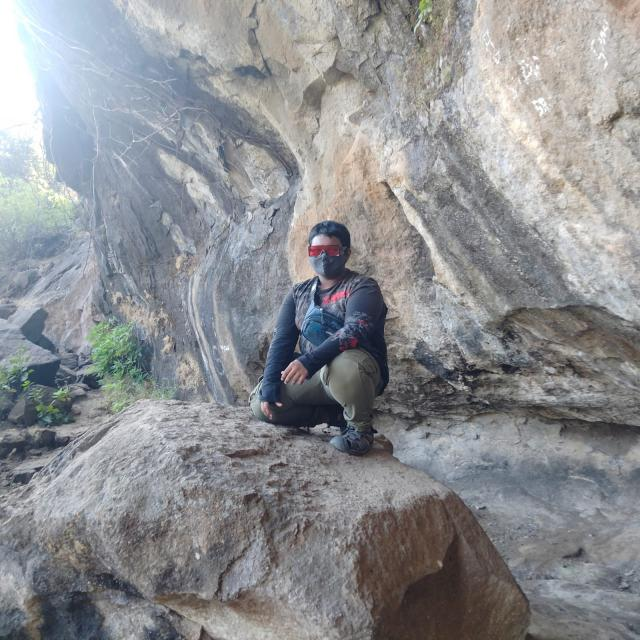Animals: (259, 211, 390, 446)
